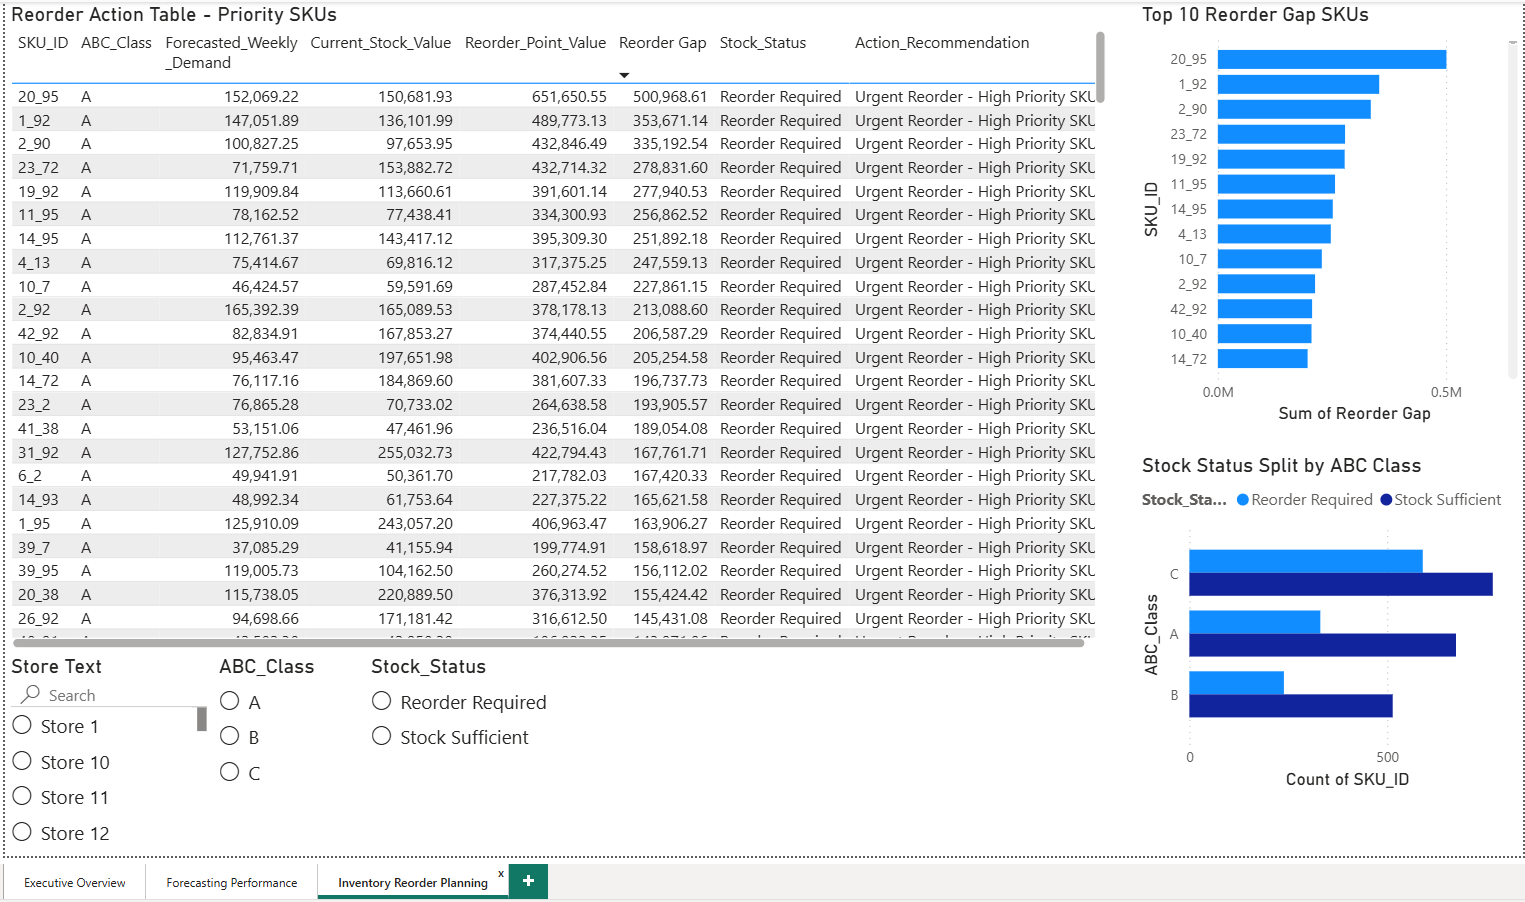

The page's visual inventory and layout, read from the dashboard file:
{"tool":"powerbi","page":{"name":"Inventory Reorder Planning","canvas":[1280,720],"ordinal":2},"visuals":[{"type":"clusteredBarChart","title":"Top 10 Reorder Gap SKUs","fields":{"Category":["inventory_planning.SKU_ID"],"Y":["Sum(inventory_planning.Reorder Gap)"]},"box":[953.2,0,326.8,359.9],"z":0},{"type":"clusteredBarChart","title":"Stock Status Split by ABC Class","fields":{"Category":["inventory_planning.ABC_Class"],"Y":["CountNonNull(inventory_planning.SKU_ID)"],"Series":["inventory_planning.Stock_Status"]},"box":[953.2,380.3,326.8,287.9],"z":1},{"type":"tableEx","title":"Reorder Action Table - Priority SKUs","fields":{"Values":["inventory_planning.SKU_ID","inventory_planning.ABC_Class","inventory_planning.Forecasted_Weekly_Demand","inventory_planning.Current_Stock_Value","inventory_planning.Reorder_Point_Value","inventory_planning.Reorder Gap","inventory_planning.Stock_Status","inventory_planning.Action_Recommendation"]},"box":[0,0,932.8,549.5],"z":2},{"type":"listSlicer","fields":{"Values":["inventory_planning.ABC_Class"]},"box":[175.1,549.5,113.8,170.2],"z":3},{"type":"listSlicer","fields":{"Values":["inventory_planning.Stock_Status"]},"box":[303.5,549.5,213,170.2],"z":4},{"type":"listSlicer","fields":{"Values":["inventory_planning.Store Text"]},"box":[0,549.5,175.1,170.2],"z":5}]}

Visuals, with their boxes on the page's 1280x720 design canvas (x1, y1, x2, y2). These are canvas units, not pixel positions in the 1525x902 screenshot, which may show the page scaled, cropped or inside an application window:
"Top 10 Reorder Gap SKUs" clusteredBarChart: l=953, t=0, r=1280, b=360
"Stock Status Split by ABC Class" clusteredBarChart: l=953, t=380, r=1280, b=668
"Reorder Action Table - Priority SKUs" tableEx: l=0, t=0, r=933, b=550
listSlicer - inventory_planning.ABC_Class: l=175, t=550, r=289, b=720
listSlicer - inventory_planning.Stock_Status: l=304, t=550, r=516, b=720
listSlicer - inventory_planning.Store Text: l=0, t=550, r=175, b=720
